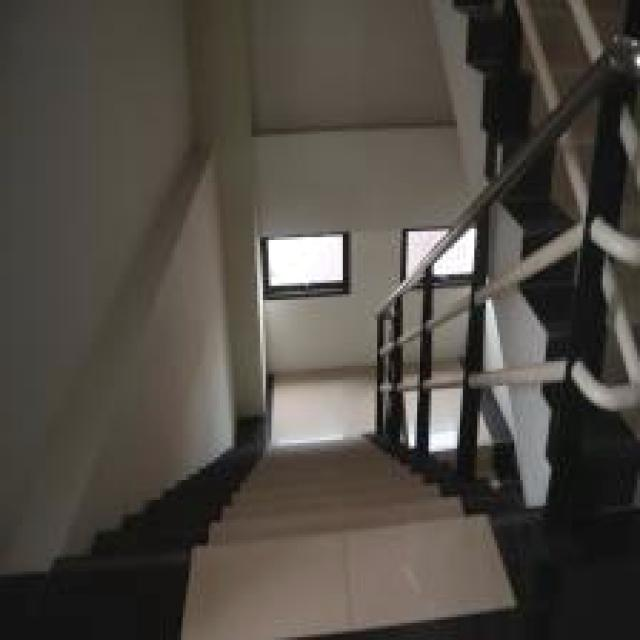downstair: (172, 449, 480, 640)
